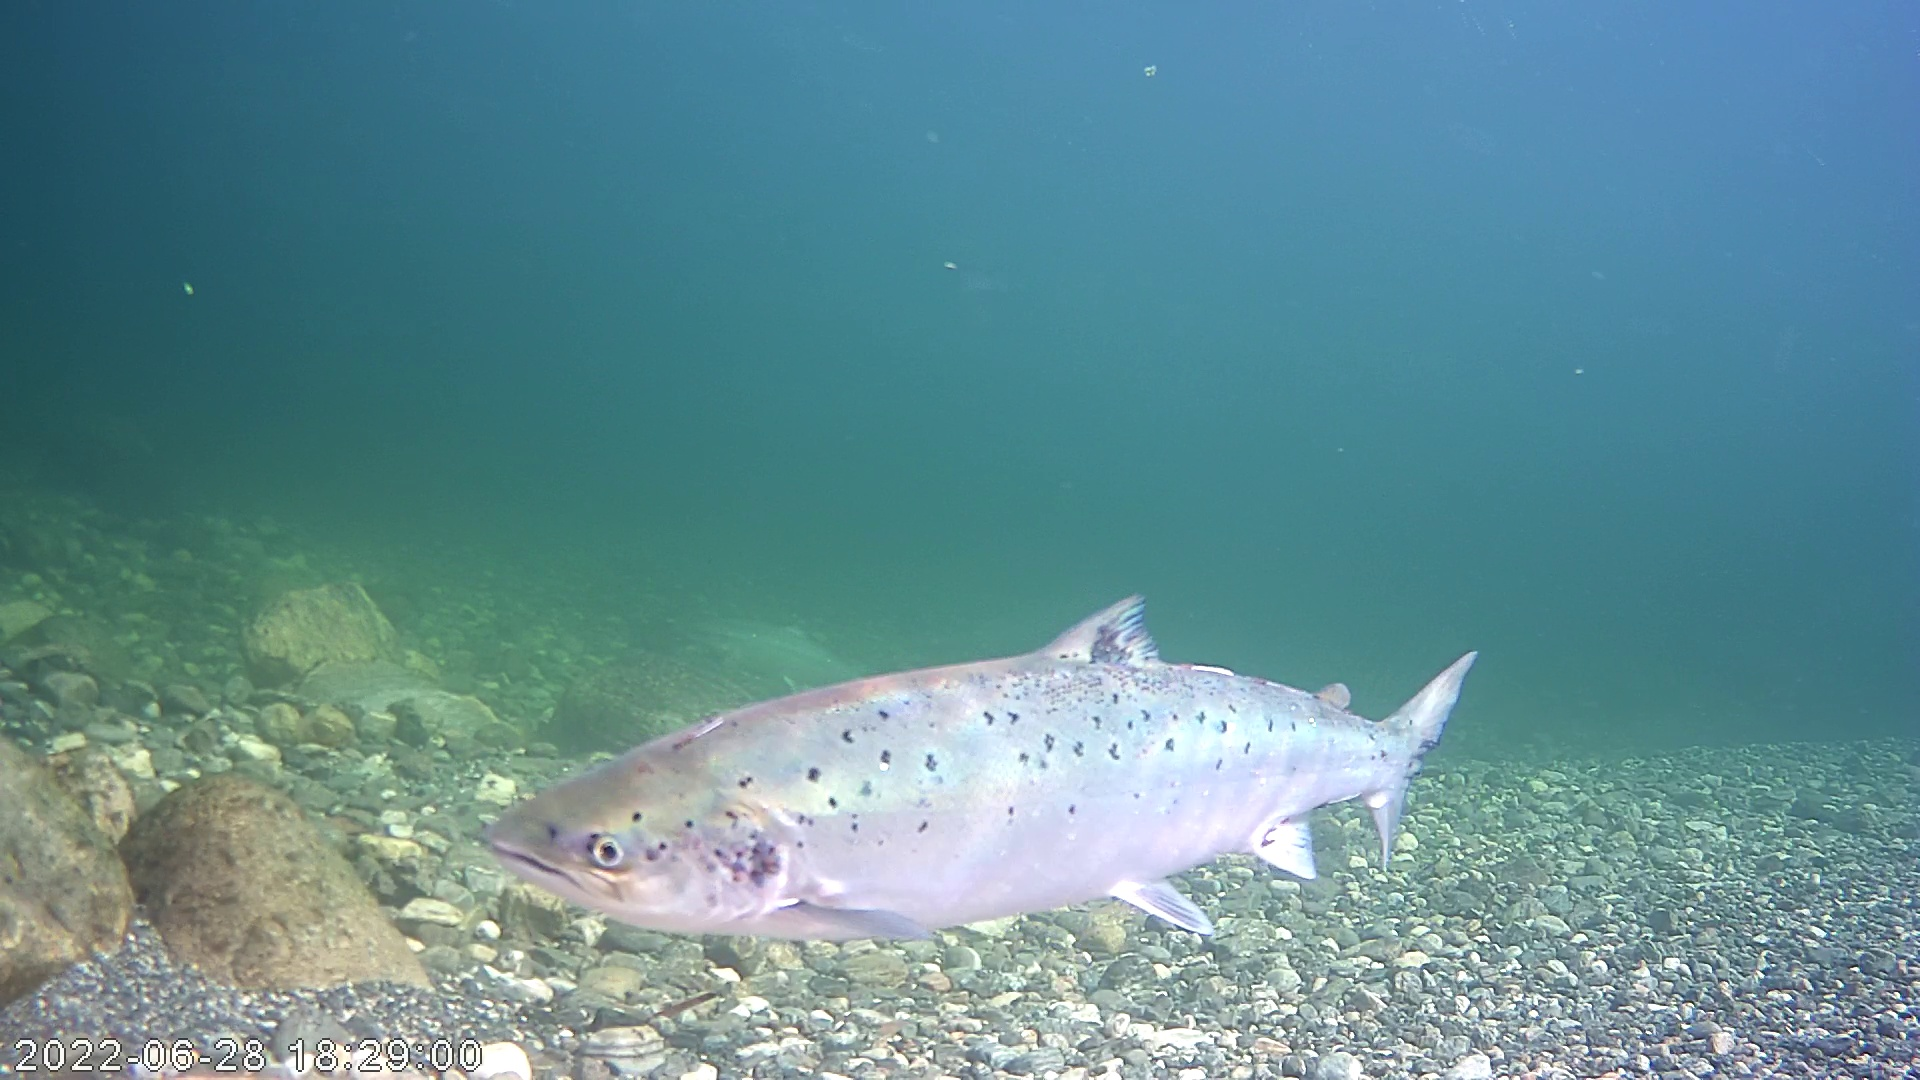salmon: (506, 555, 1490, 952)
